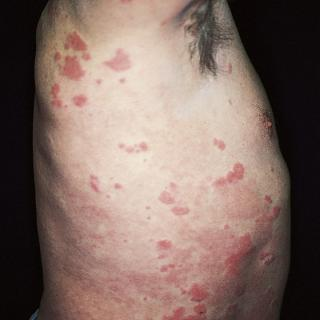urticaria: (44, 22, 93, 85)
